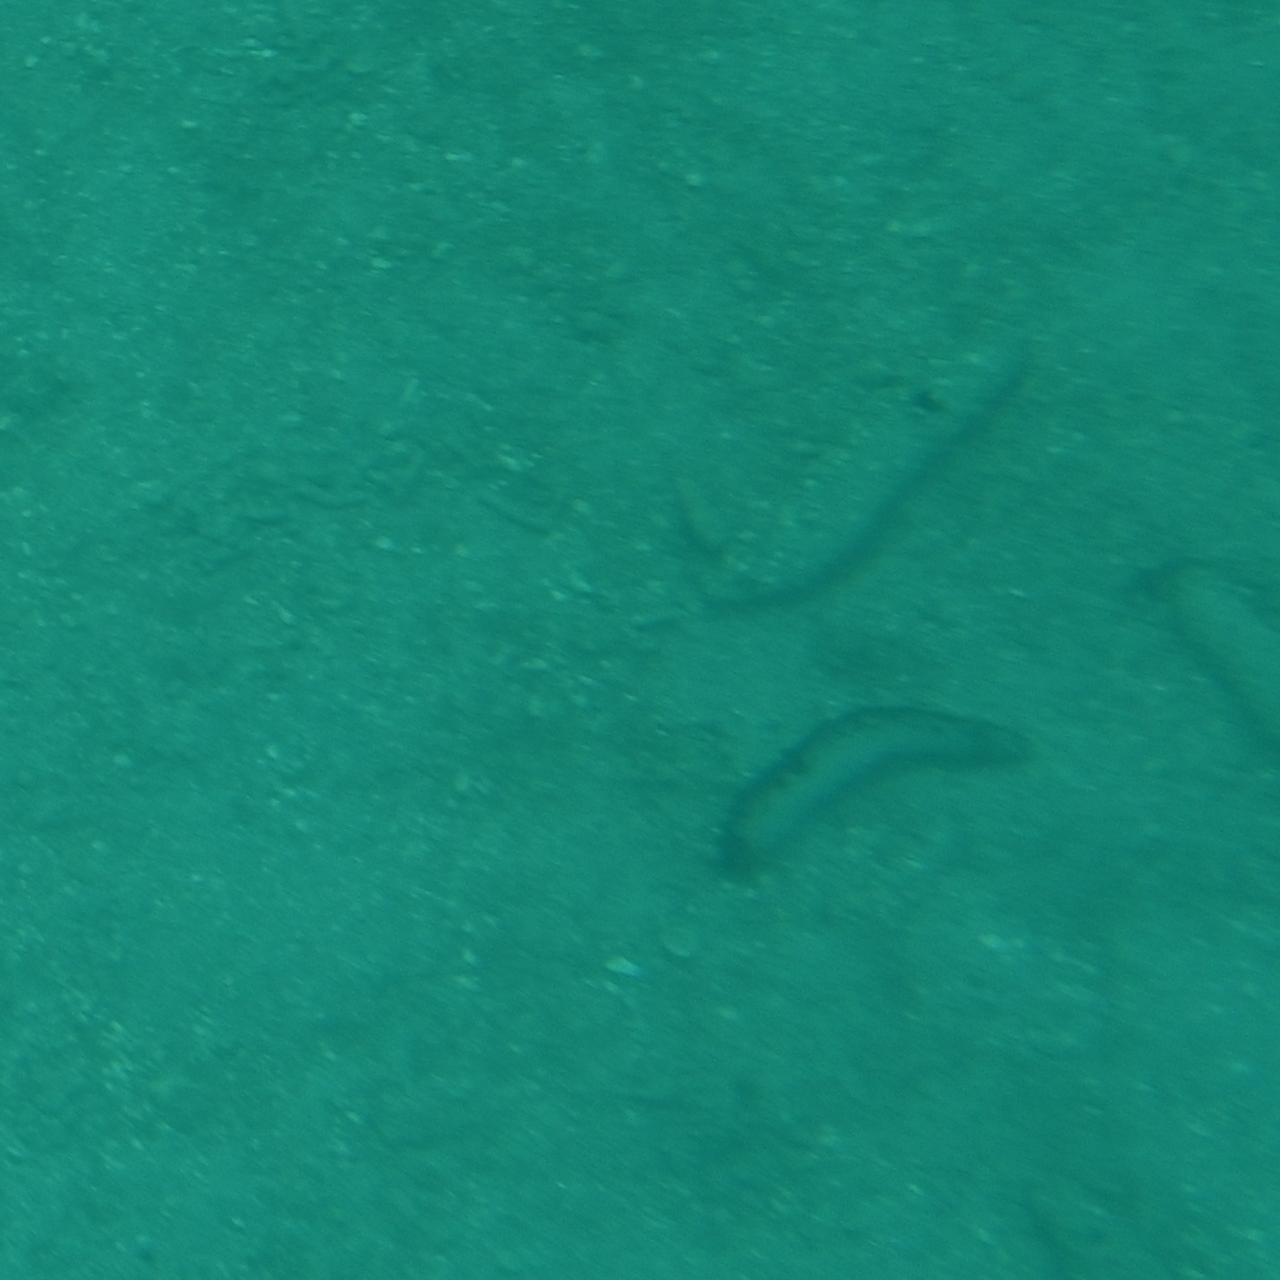Holothuria tubulosa: (729, 324, 1055, 621), (680, 712, 1020, 906)
